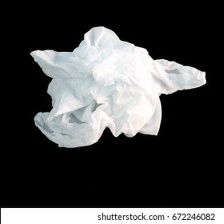tissue: (20, 21, 210, 153)
